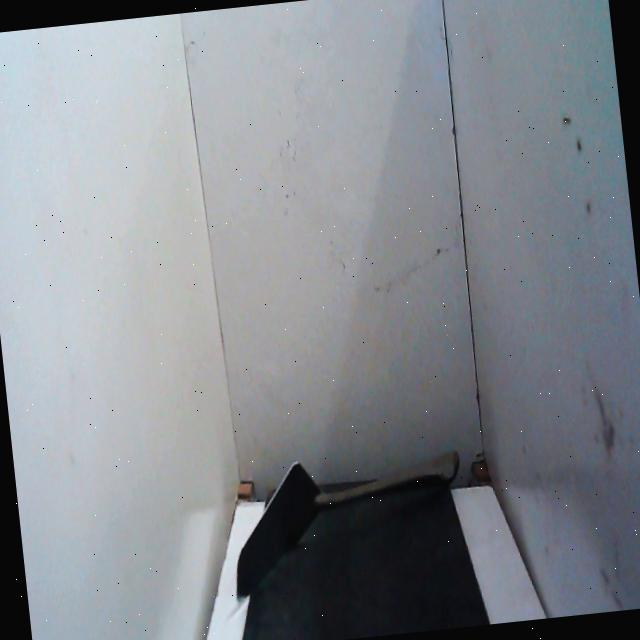metal: (215, 436, 479, 608)
